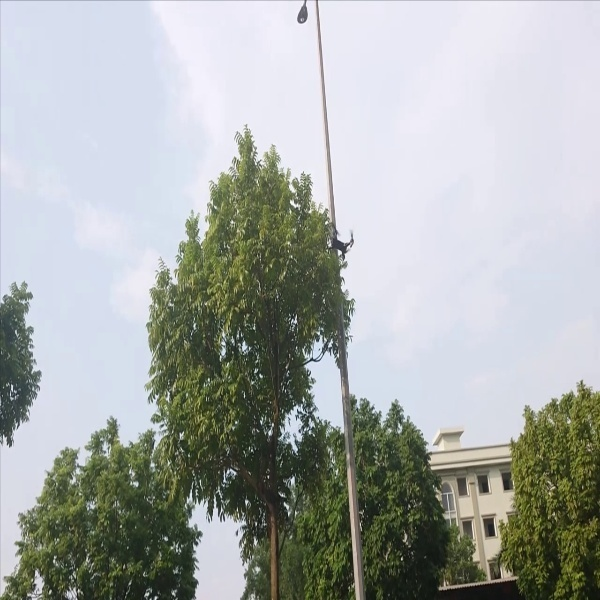drone: (321, 227, 356, 260)
